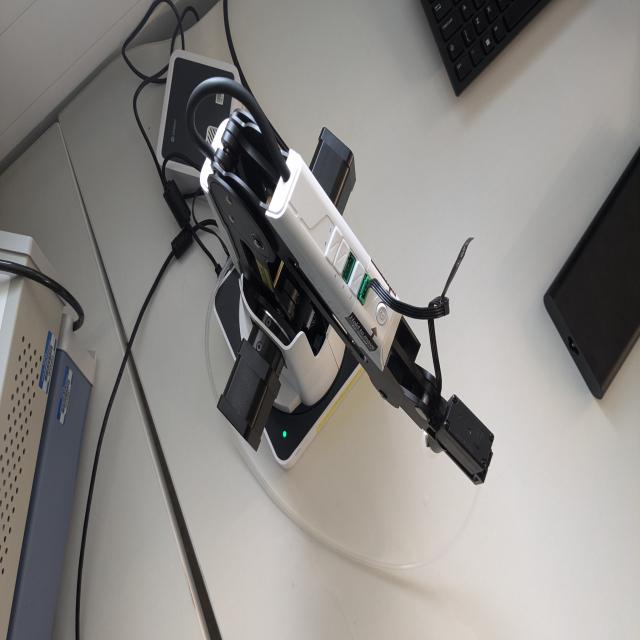Robot-end-effector-HF8z: (417, 389, 497, 490)
